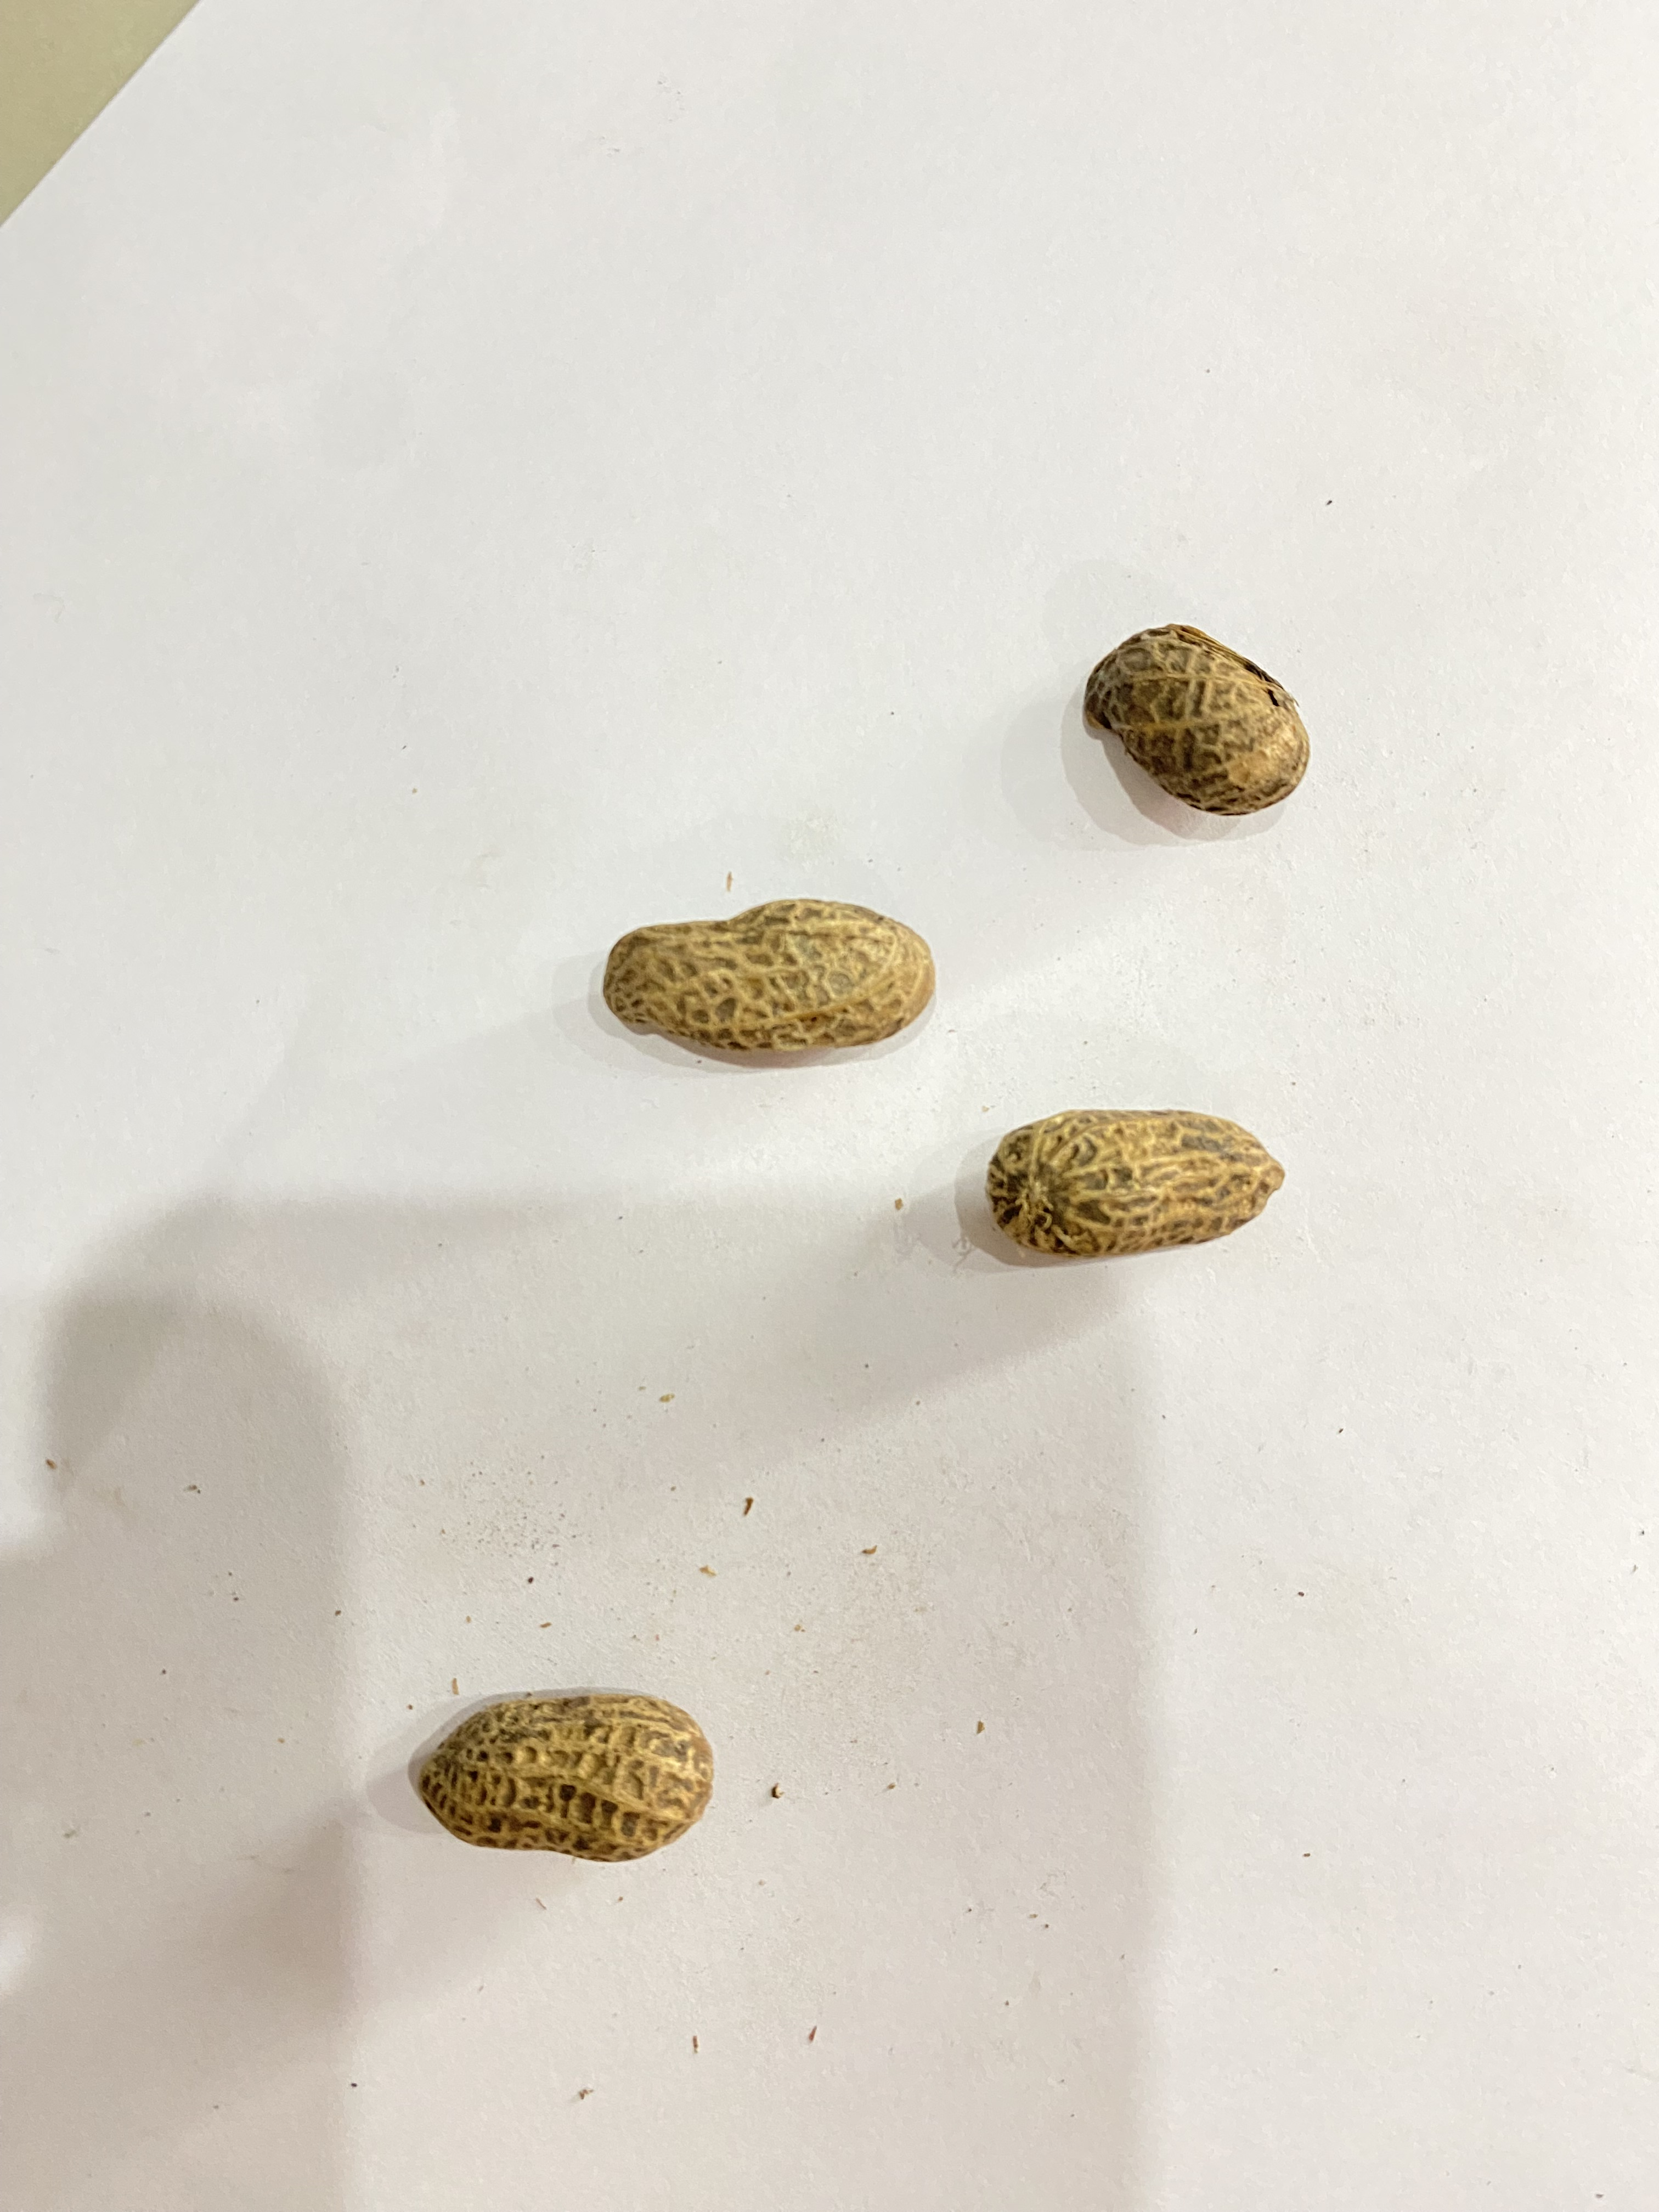kacang1: (390, 1669, 756, 1886), (939, 1096, 1333, 1271), (1079, 613, 1321, 833)
kacang2: (591, 902, 953, 1082)
